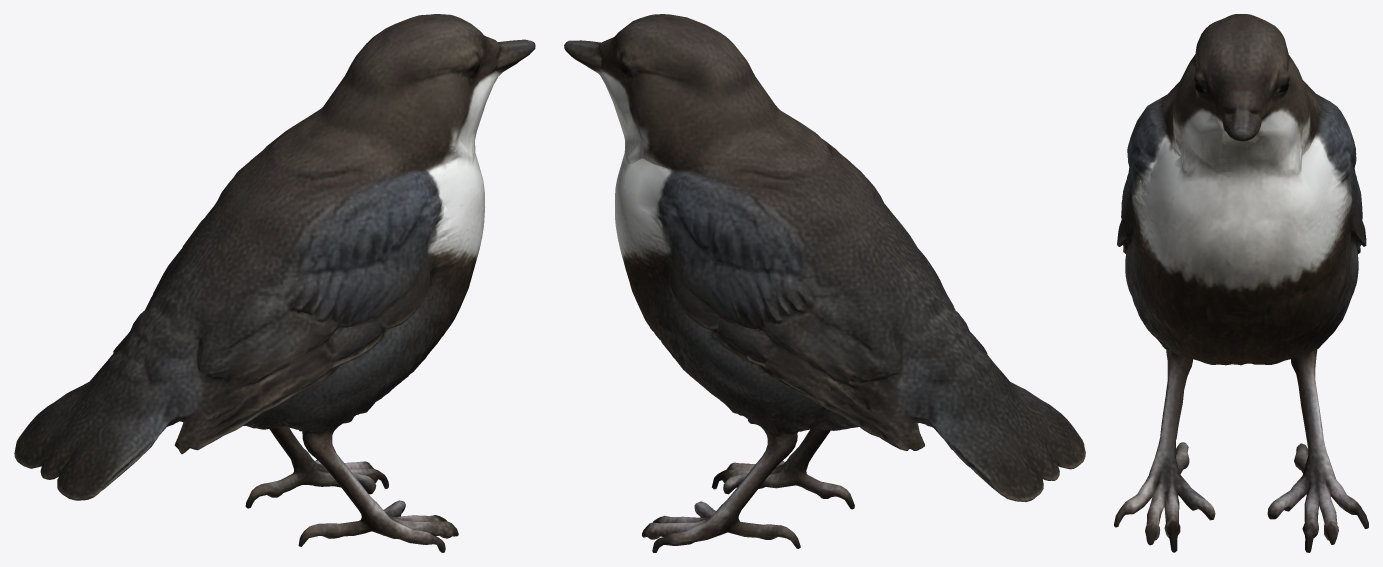
The model's file is white-throated-dipper-v21-lod.glb.
The picture shows the model from 3 angles, left to right: view 1: azimuth 30°, elevation 25°; view 2: azimuth 150°, elevation 25°; view 3: azimuth 270°, elevation 25°; orthographic projection. The views are drawn at different scales.
Visible parts, largest first — view 1: geometry_0; view 2: geometry_0; view 3: geometry_0.
Part boxes in pixels (x1,y1,x2,y2): geometry_0: [14, 14, 535, 552]; geometry_0: [564, 14, 1085, 552]; geometry_0: [1114, 14, 1368, 552].
Size of the model in its own units: 0.1998 by 0.1898 by 0.0823.
1 material, 1 textured.
